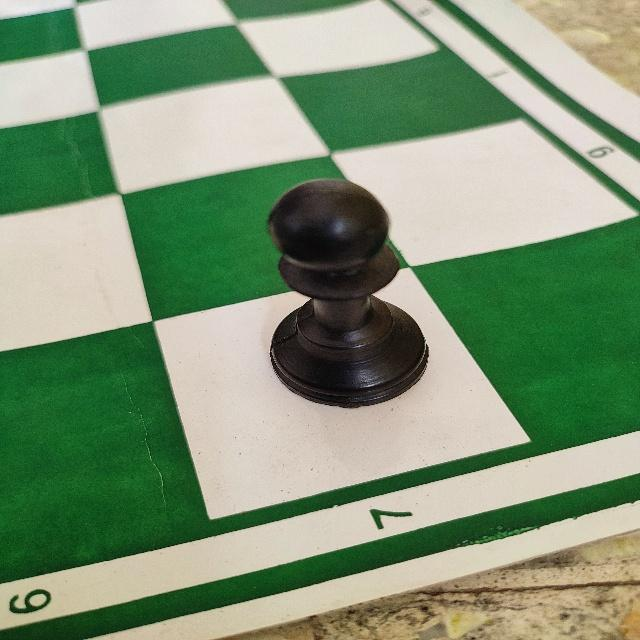Pawn: (258, 172, 434, 414)
